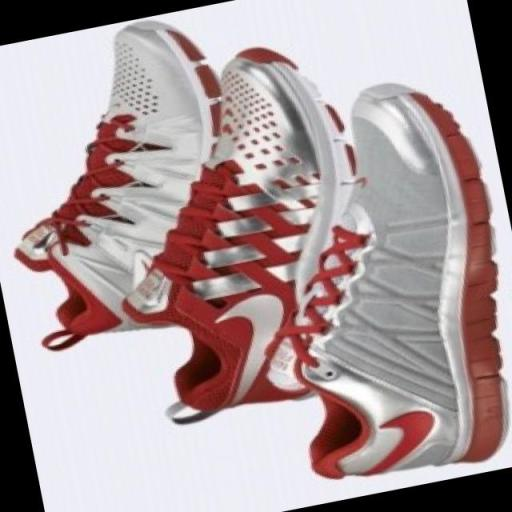Nike: (208, 282, 302, 408)
